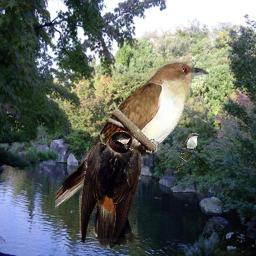Cuckoo: (55, 60, 210, 209), (174, 132, 199, 173)
Swallow: (79, 131, 141, 250)
